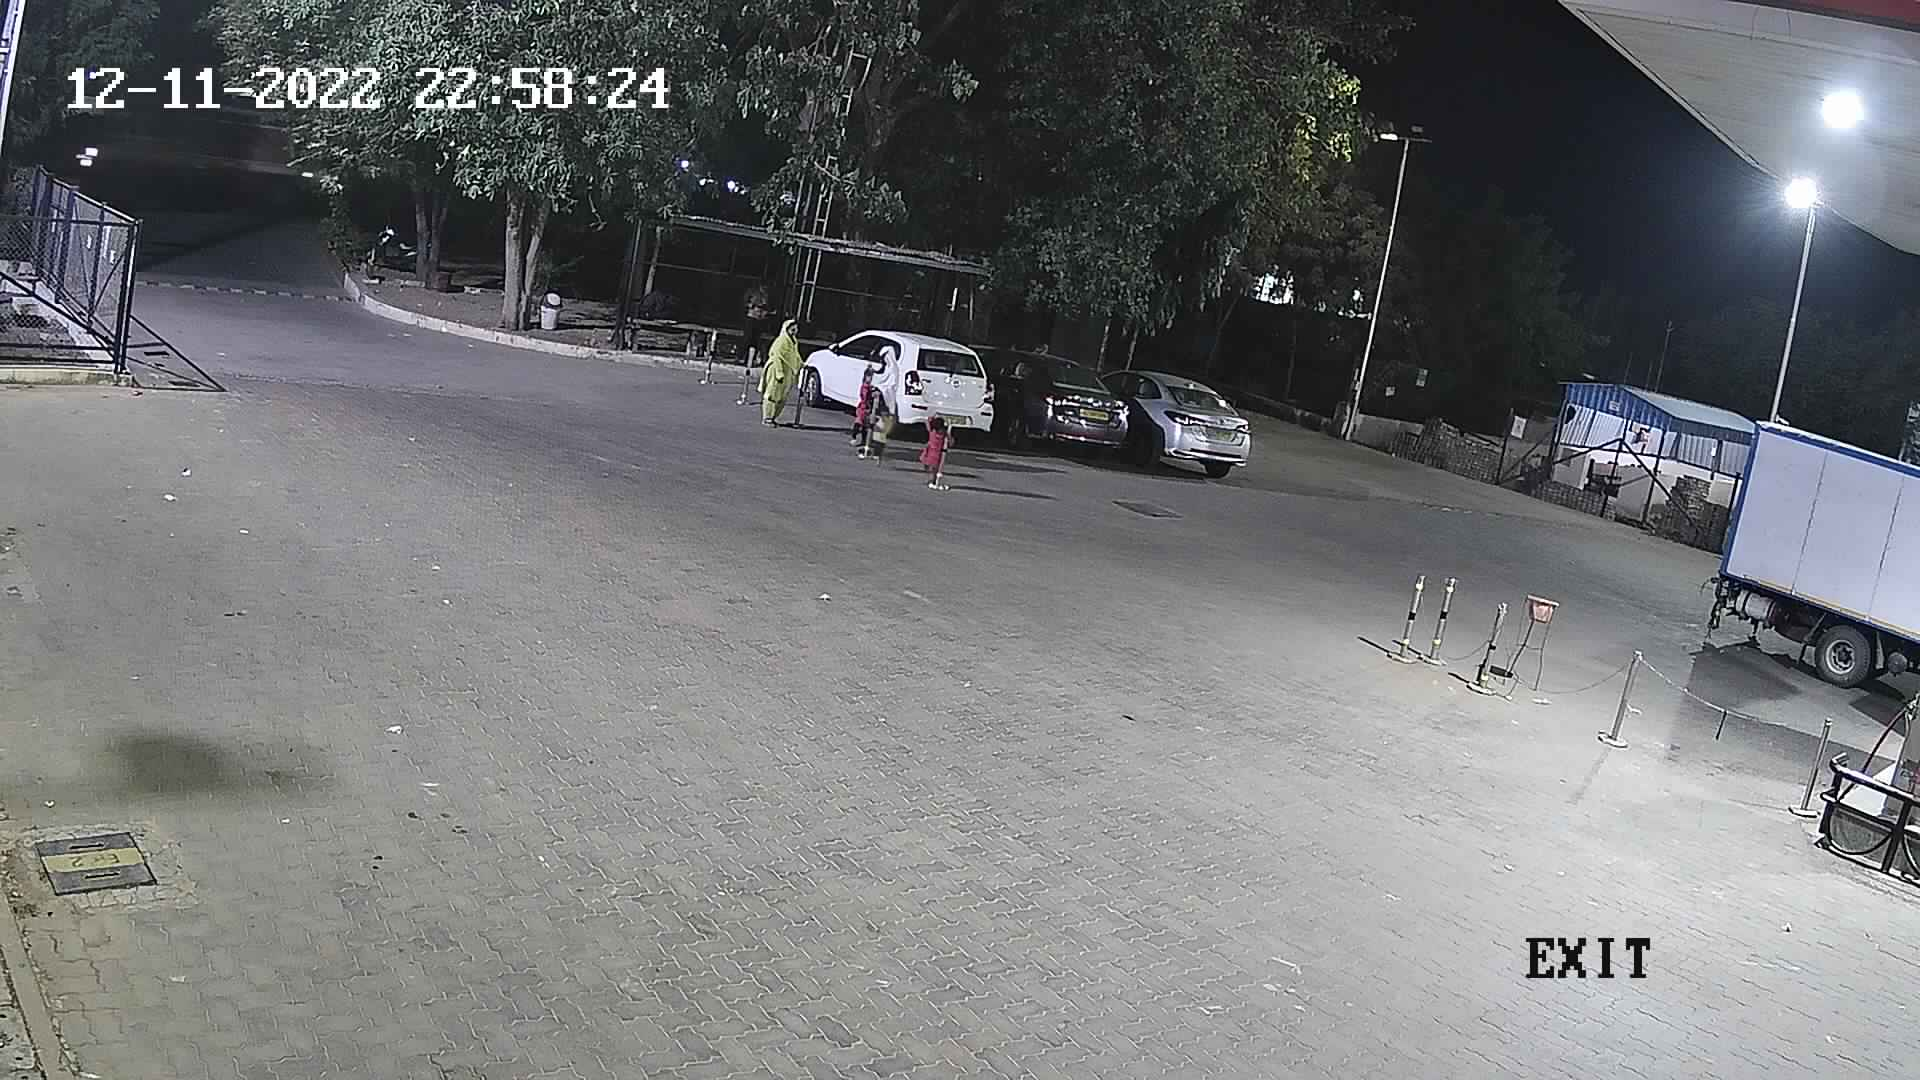Bike: (353, 200, 422, 287)
Car: (785, 323, 1017, 459), (955, 330, 1137, 471), (1092, 356, 1258, 488)
HMV: (1688, 405, 1917, 715)
